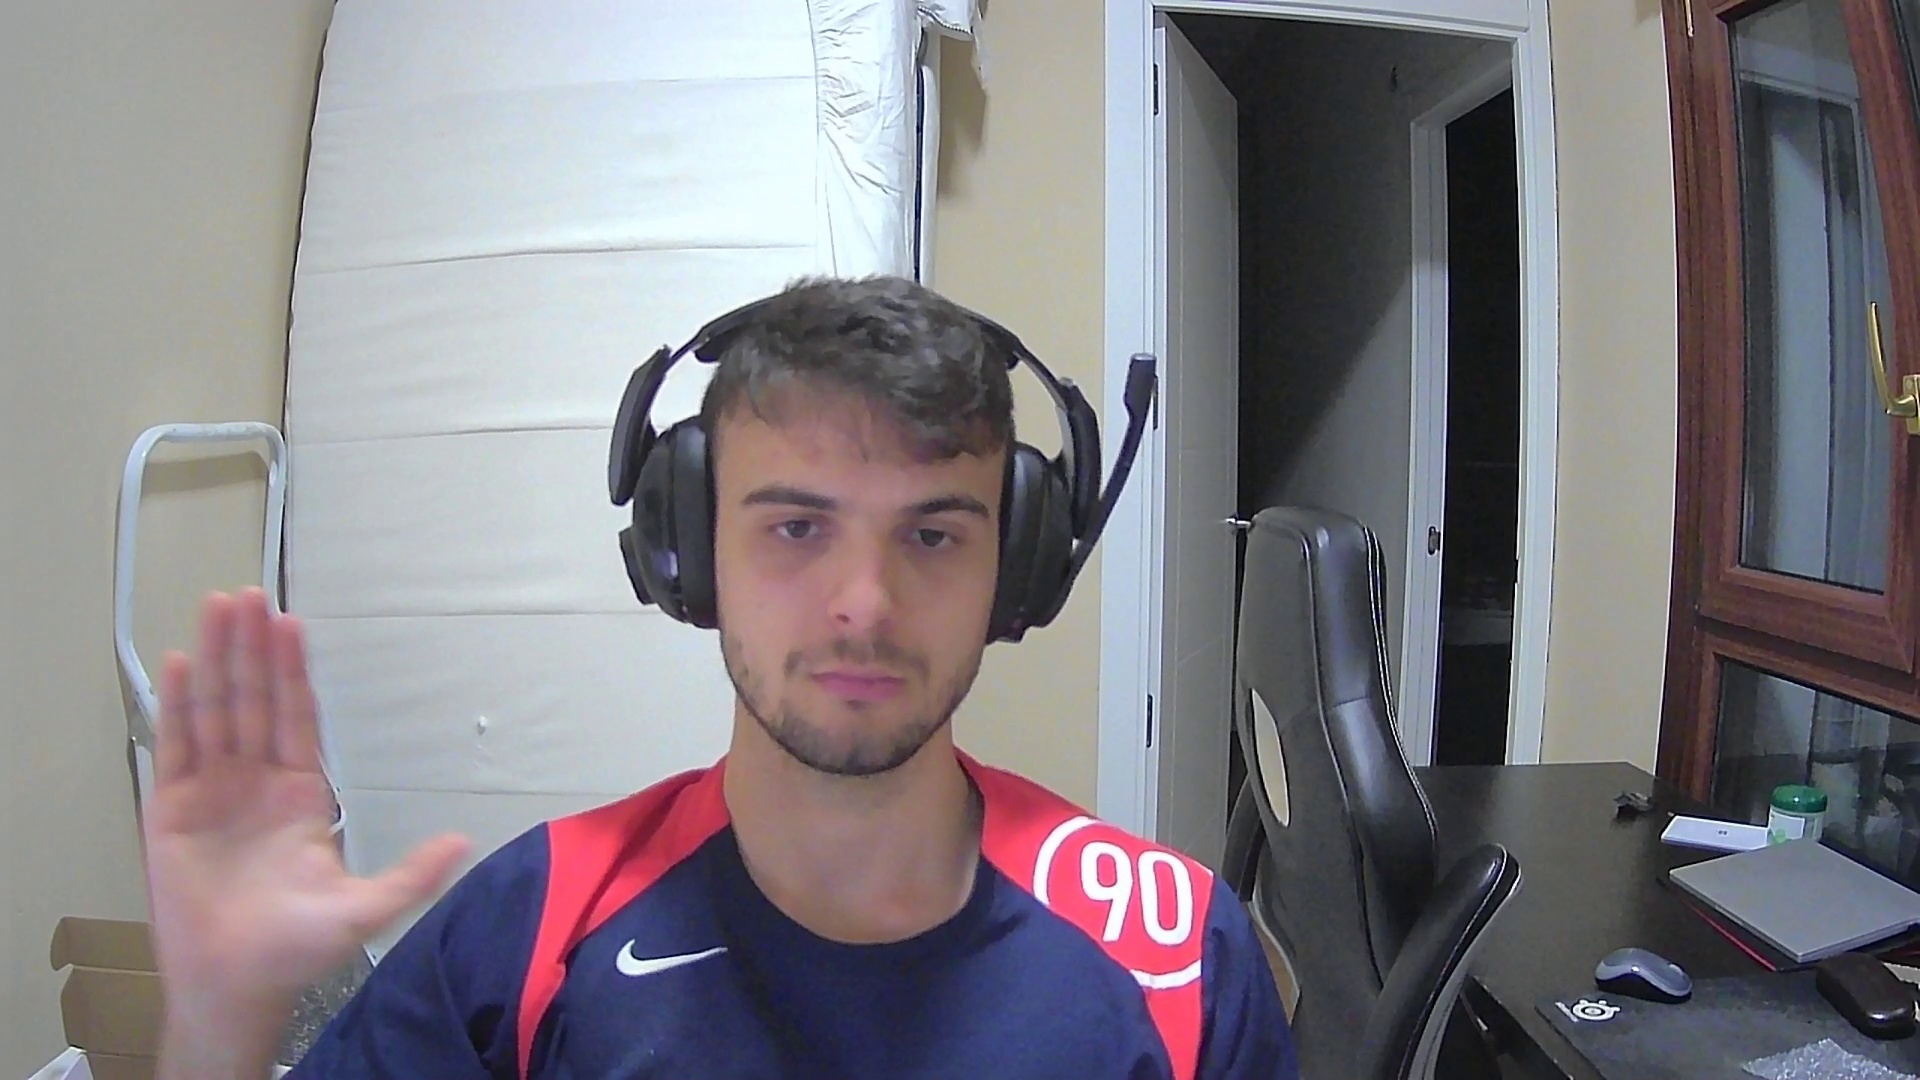Palm: (131, 583, 475, 1000)
